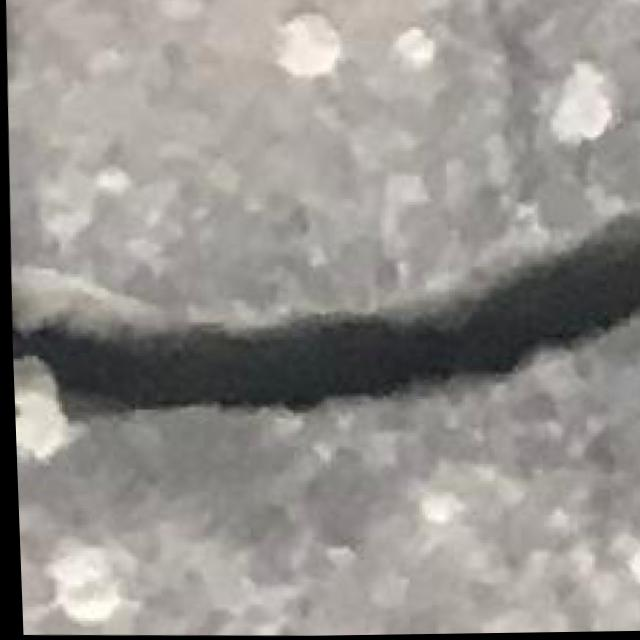Crack: (5, 173, 640, 456)
